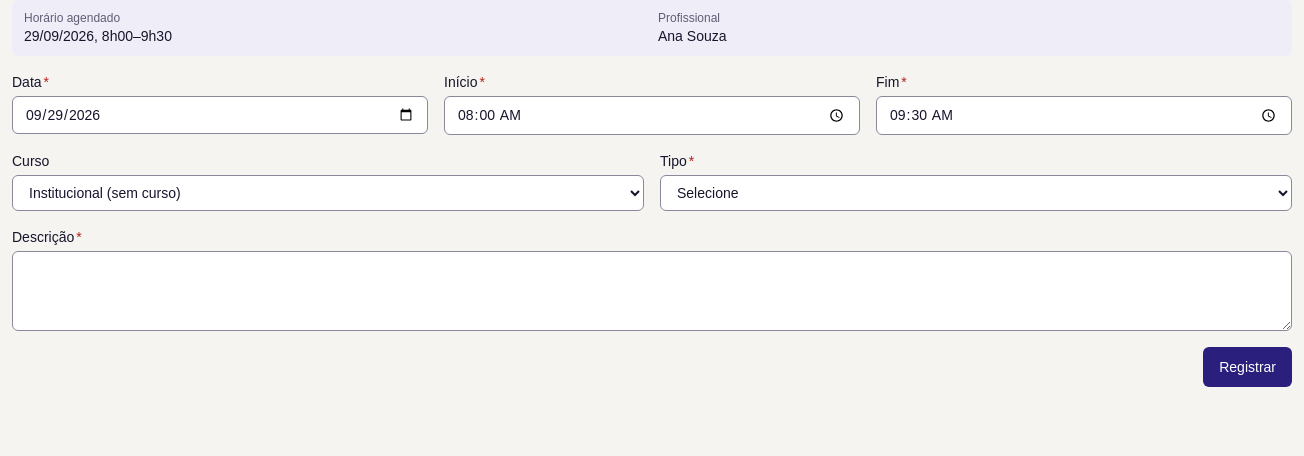
Test: AtividadeForm › conflito_409_aparece_no_alerta_e_mantem_o_formulario
Select "Outra" in the dropdown labelled "Tipo*" at (976,193), box [660,175,1292,211]
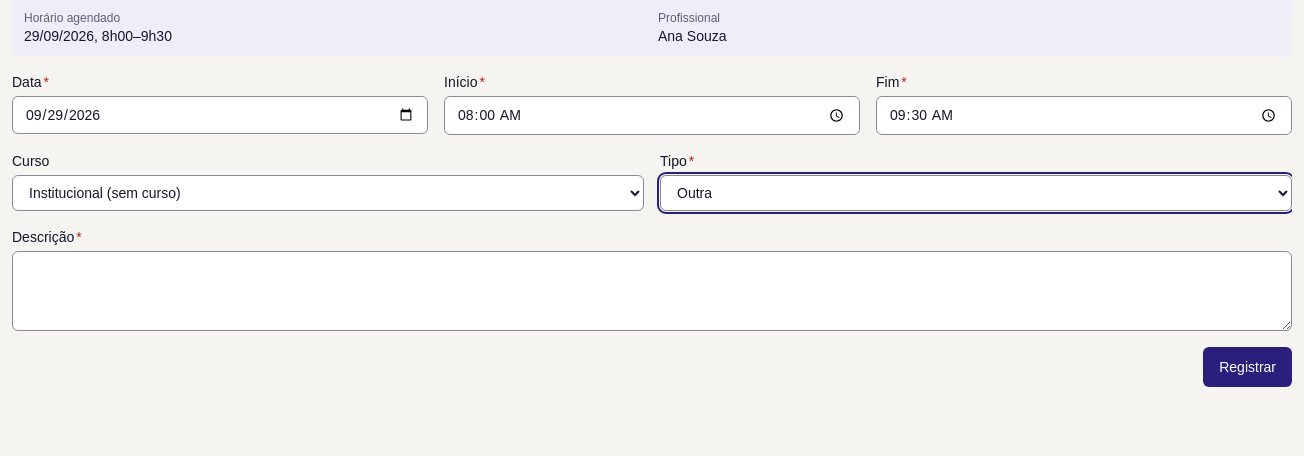
Type "Reunião com a turma" into the text box labelled "Descrição*" at (652,291), box [12,251,1292,331]
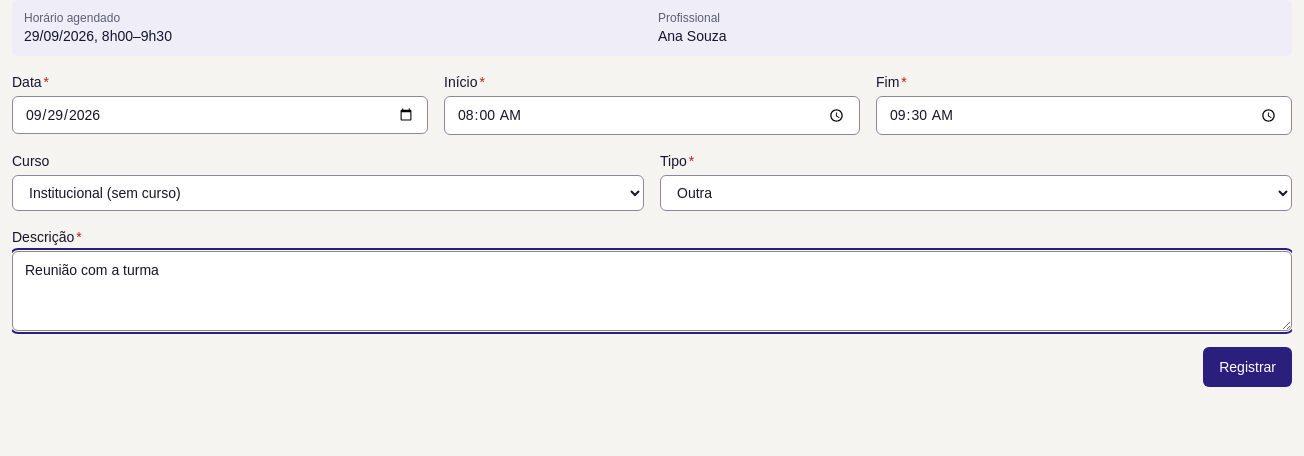
Click the button "Registrar" at (1248,367), box [1203,347,1292,387]
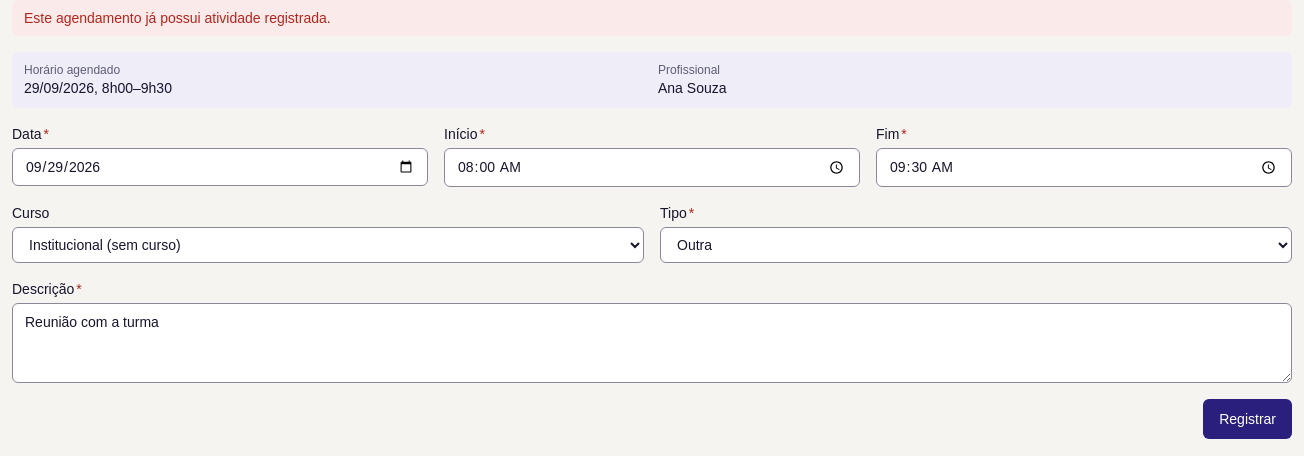
Now the text "Este agendamento já possui atividade registrada." is shown, box [12,0,1292,36]
